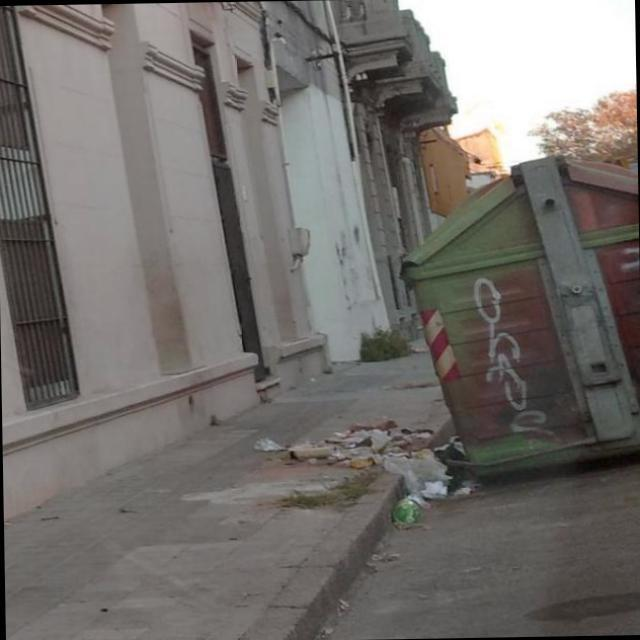garbage: (337, 428, 465, 496), (242, 411, 428, 456), (390, 494, 429, 527)
